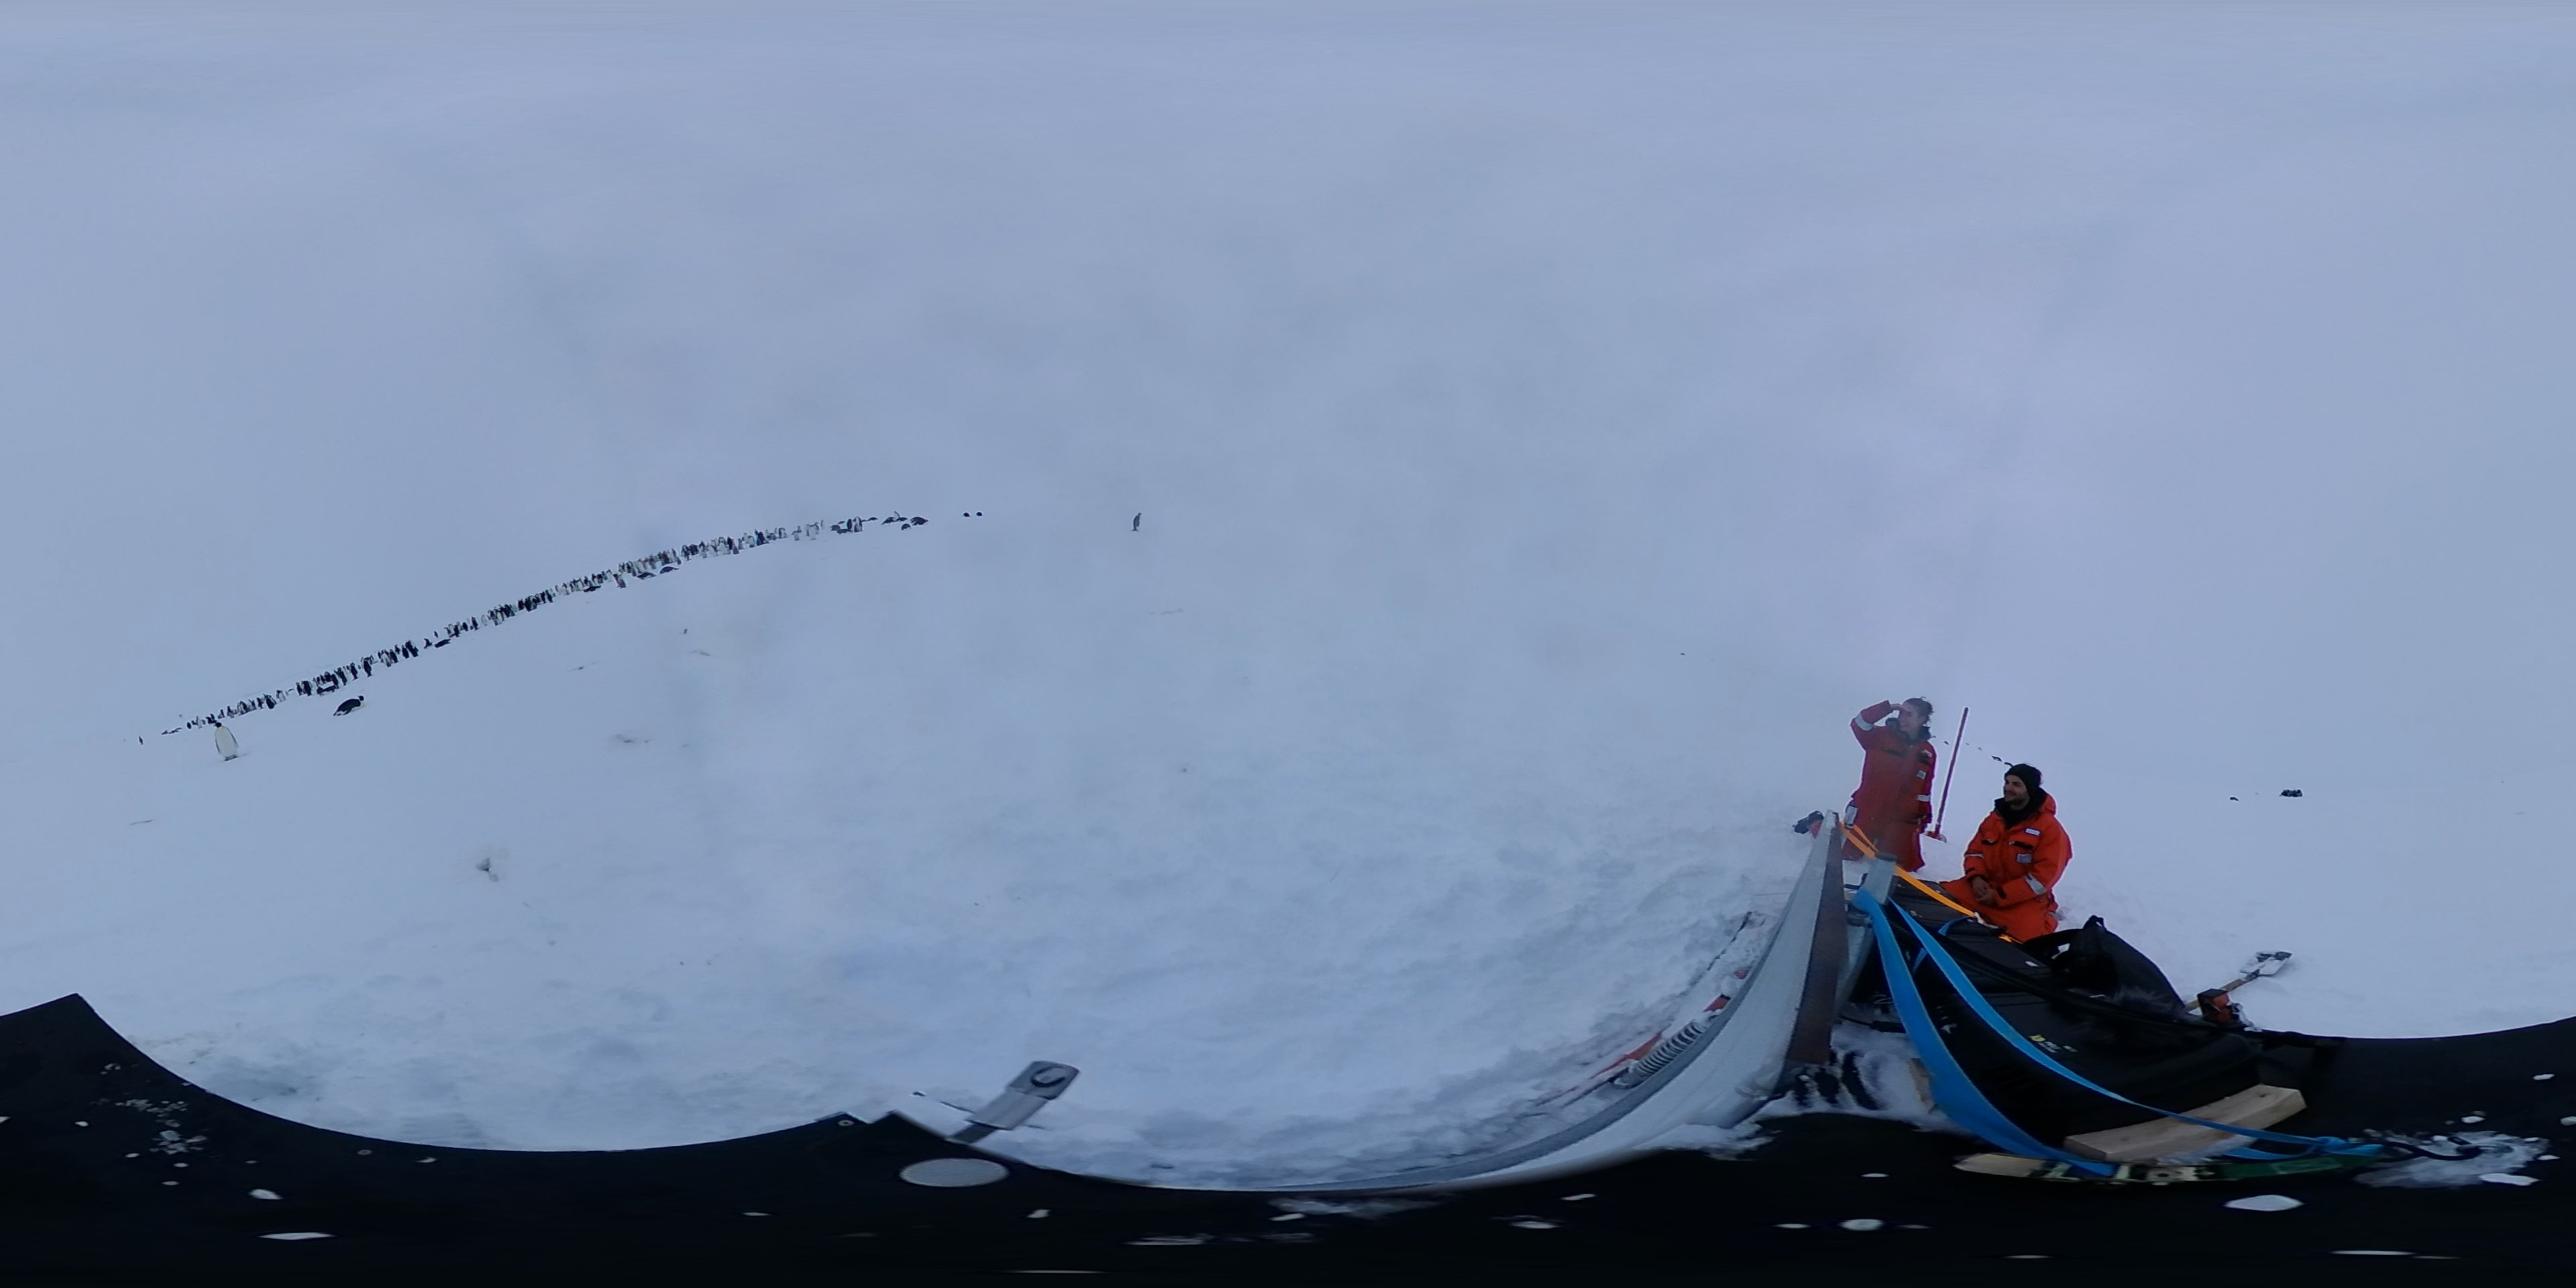adult_standing_penguin: (205, 718, 240, 764), (1129, 508, 1147, 537)
adult_toboggan_penguin: (329, 695, 365, 721)
researcher: (1792, 695, 1943, 874), (1947, 759, 2073, 943)
